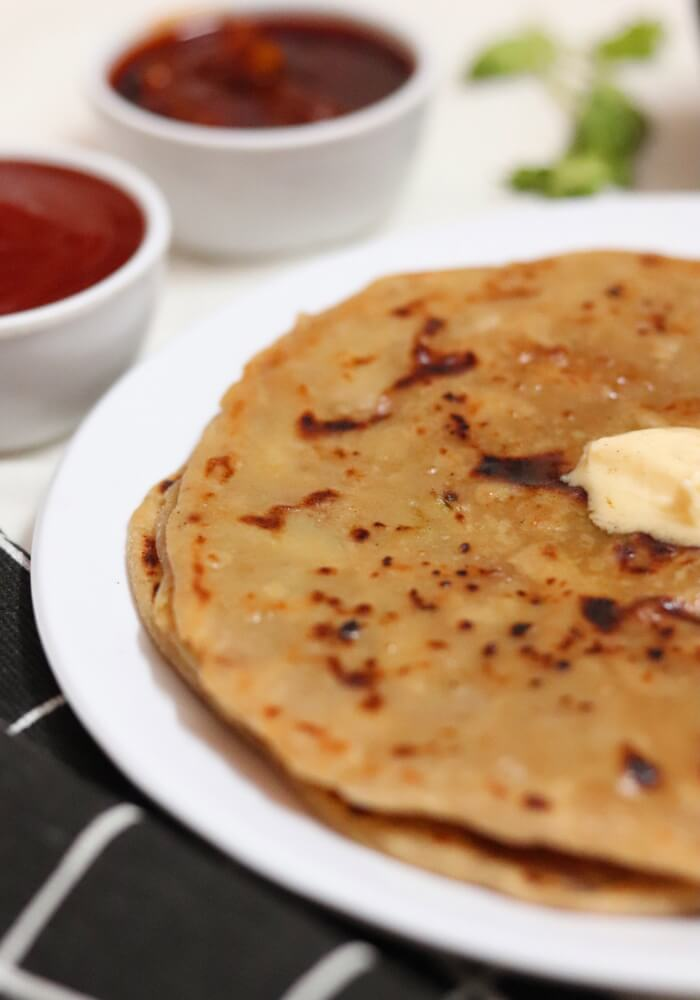aloo_paratha: (137, 238, 697, 914)
